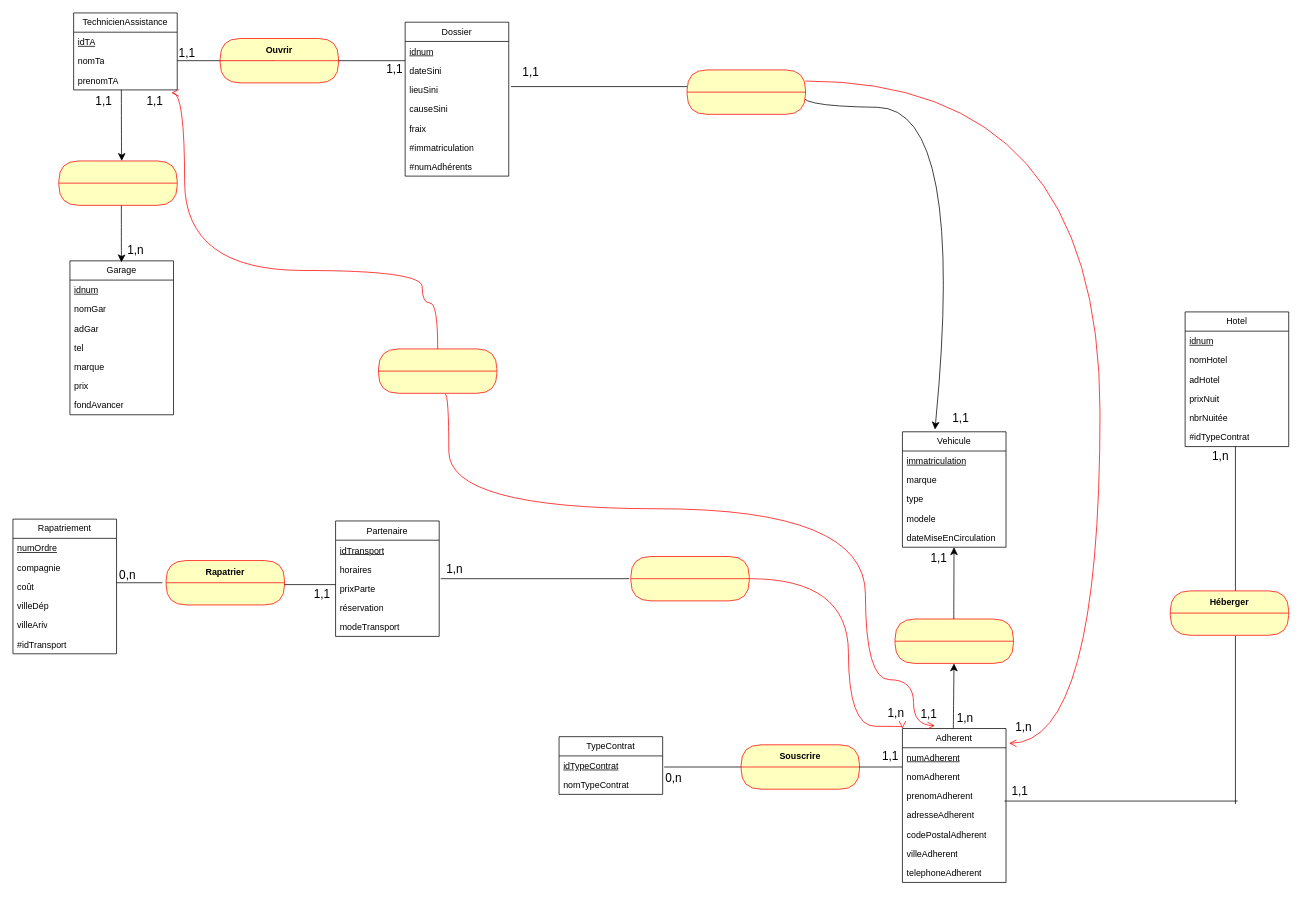
Some shapes in this 1302 by 898 pixel diagram are drawn without their labels. The centre of each missing label's shape, as x and y in pixels:
"Contacter" belongs at pixel 117 182.
"Diriger" belongs at pixel 689 578.
"Posseder" belongs at pixel 953 640.
"Référencer" belongs at pixel 745 91.
"Téléphoner" belongs at pixel 437 370.
